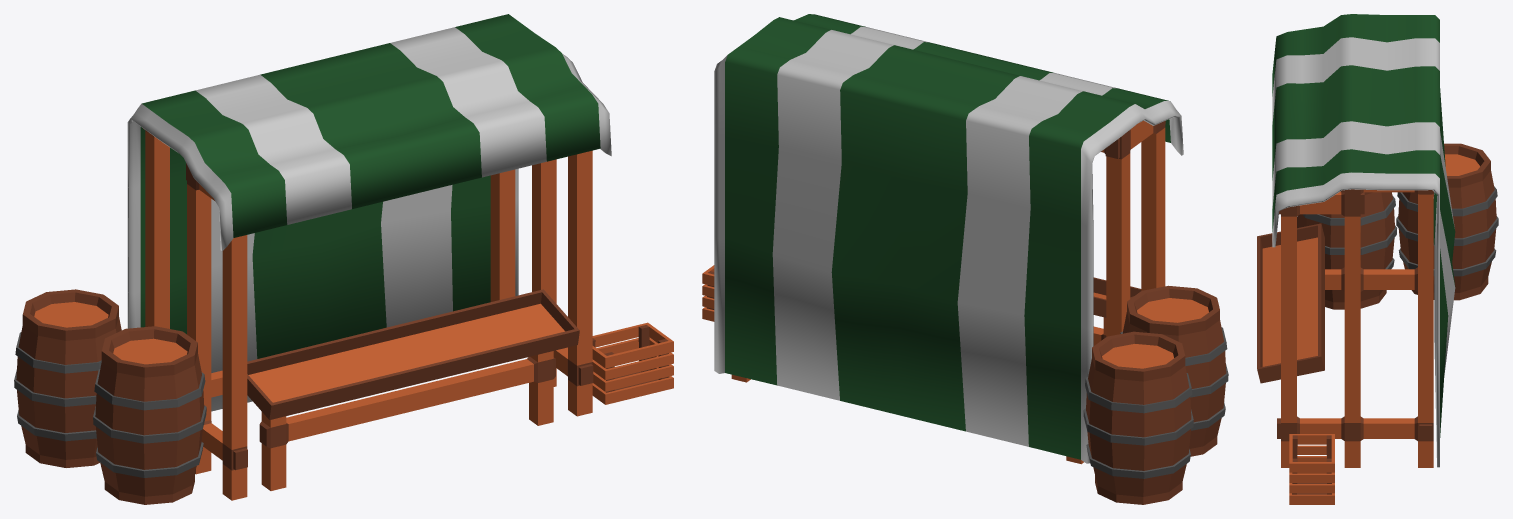
The model's file is MarketStallGR.fbx.
3 renders of one model, left to right at view 1: azimuth 30°, elevation 25°; view 2: azimuth 150°, elevation 25°; view 3: azimuth 270°, elevation 25°, orthographic. The views are drawn at different scales.
Visible parts, largest first — view 1: MarketStall.004; view 2: MarketStall.004; view 3: MarketStall.004.
Part boxes in pixels (x1,y1,x2,y2): MarketStall.004: (14,14,673,504); MarketStall.004: (702,14,1228,504); MarketStall.004: (1257,14,1498,504).
Bounding box in the file's own units: 3.6 × 2.06 × 1.52.
